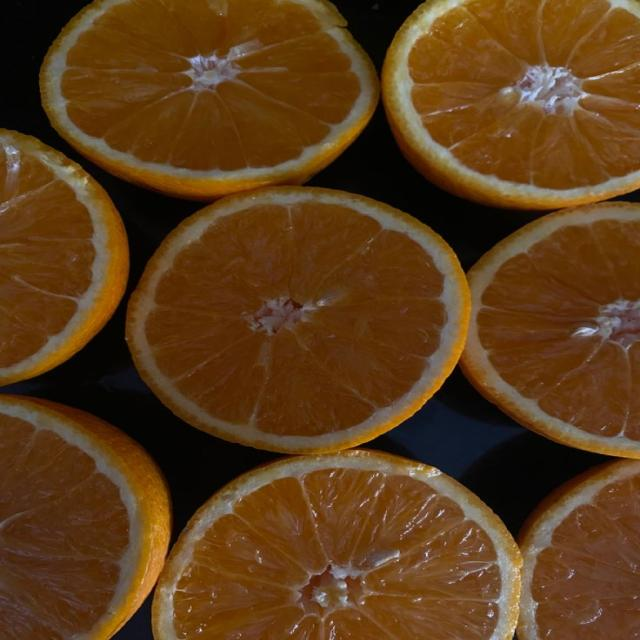orange: (127, 187, 469, 452), (154, 451, 520, 639), (41, 0, 378, 200), (383, 0, 639, 209), (462, 203, 639, 457), (0, 396, 170, 639), (0, 130, 128, 384), (518, 461, 639, 639)
